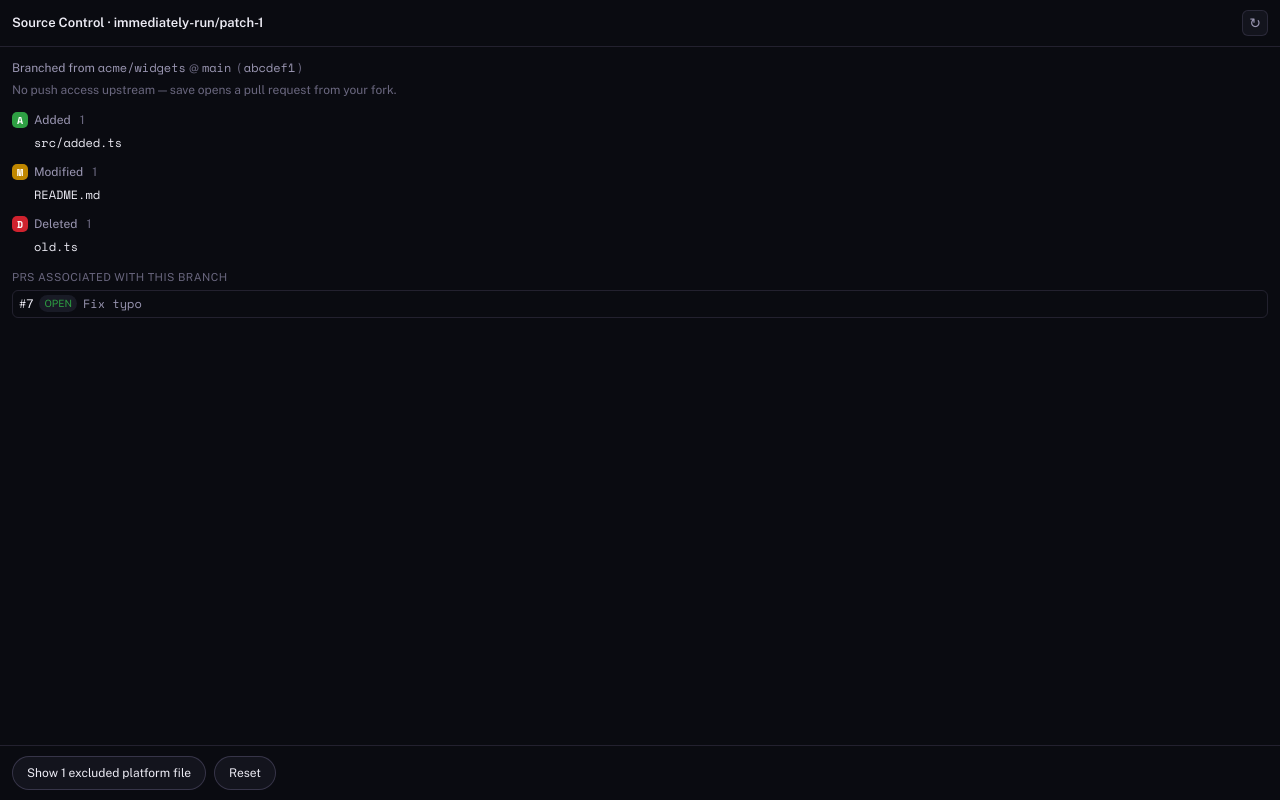
Test: SourceControlView — the VcsState facts (R3-987) › the phantom footer toggle shows and hides excludedPhantoms
Click the button "Show 1 excluded platform file". click: click(109, 773)
box: [12,756,206,790]
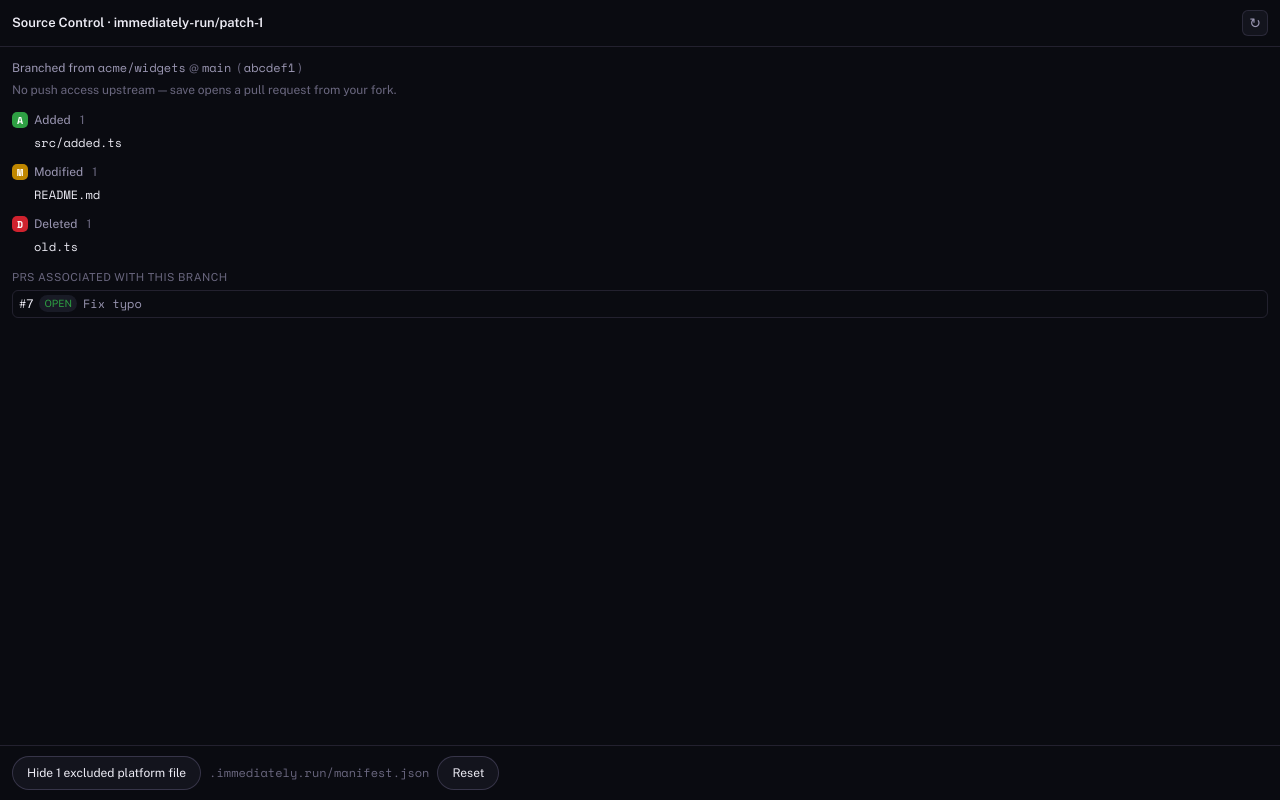
Expected: the element with test id "scp-phantoms" reads ".immediately.run/manifest.json", [209,764,429,781]
Click the button "Hide 1 excluded platform file". click: click(107, 773)
box: [12,756,201,790]
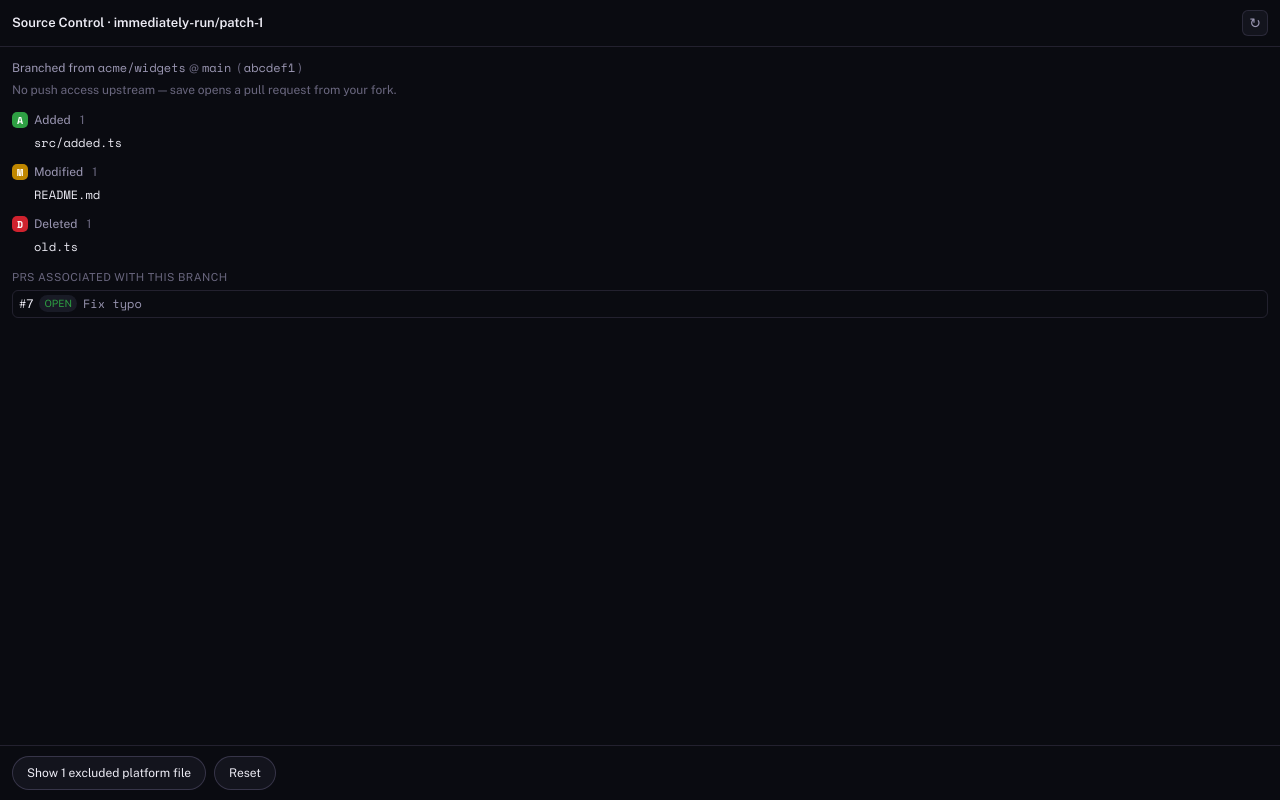
Expected: the element with test id "scp-phantoms" is gone
